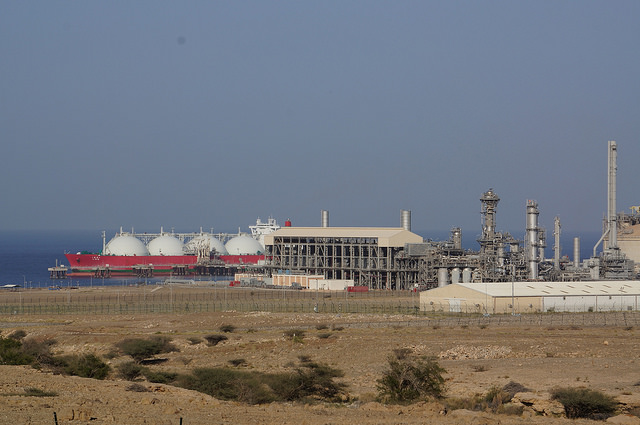LNG_ship: (66, 229, 272, 265)
